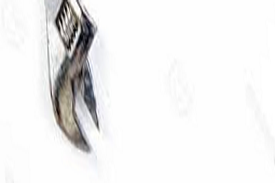Wrench: (9, 1, 166, 154)
